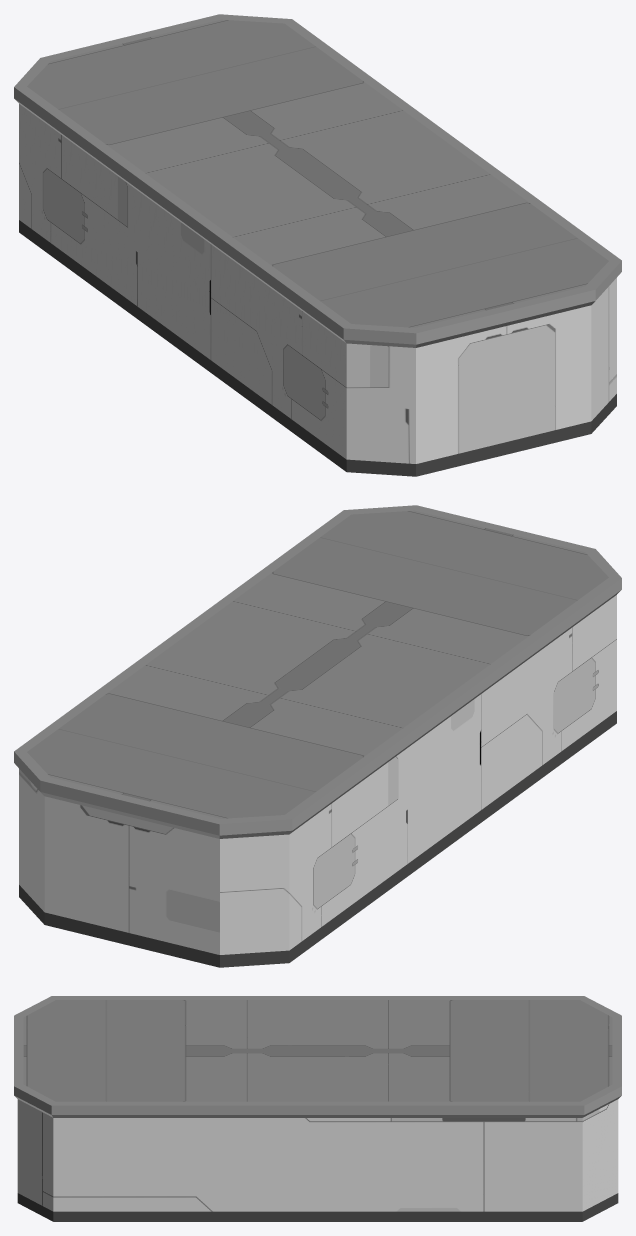
File: SM_Platform_3x7_1.fbx
3 views of the same model, one above another, from view 1: azimuth 30°, elevation 25°; view 2: azimuth 150°, elevation 25°; view 3: azimuth 270°, elevation 25° (orthographic). The views are drawn at different scales.
Visible parts, largest first — view 1: SM_Platform_3x7_1; view 2: SM_Platform_3x7_1; view 3: SM_Platform_3x7_1.
Part boxes in pixels (x1,y1,x2,y2): SM_Platform_3x7_1: [14, 14, 621, 476]; SM_Platform_3x7_1: [14, 505, 621, 967]; SM_Platform_3x7_1: [14, 996, 621, 1221].
Bounding box in the file's own units: 300 × 150 × 702.
